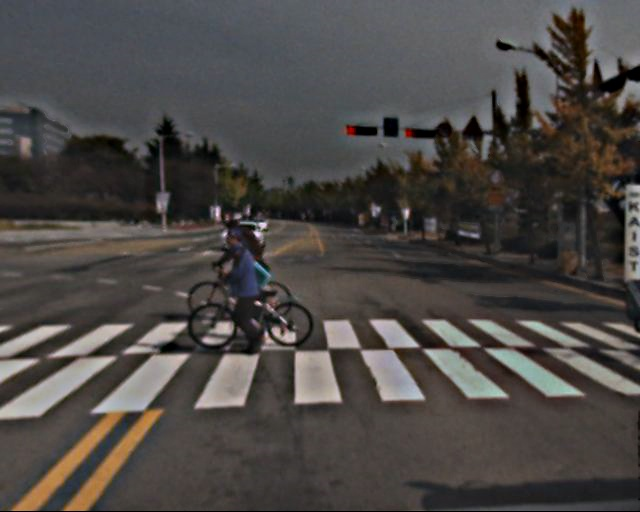person: (221, 235, 272, 352), (221, 218, 270, 328), (226, 233, 272, 334)
